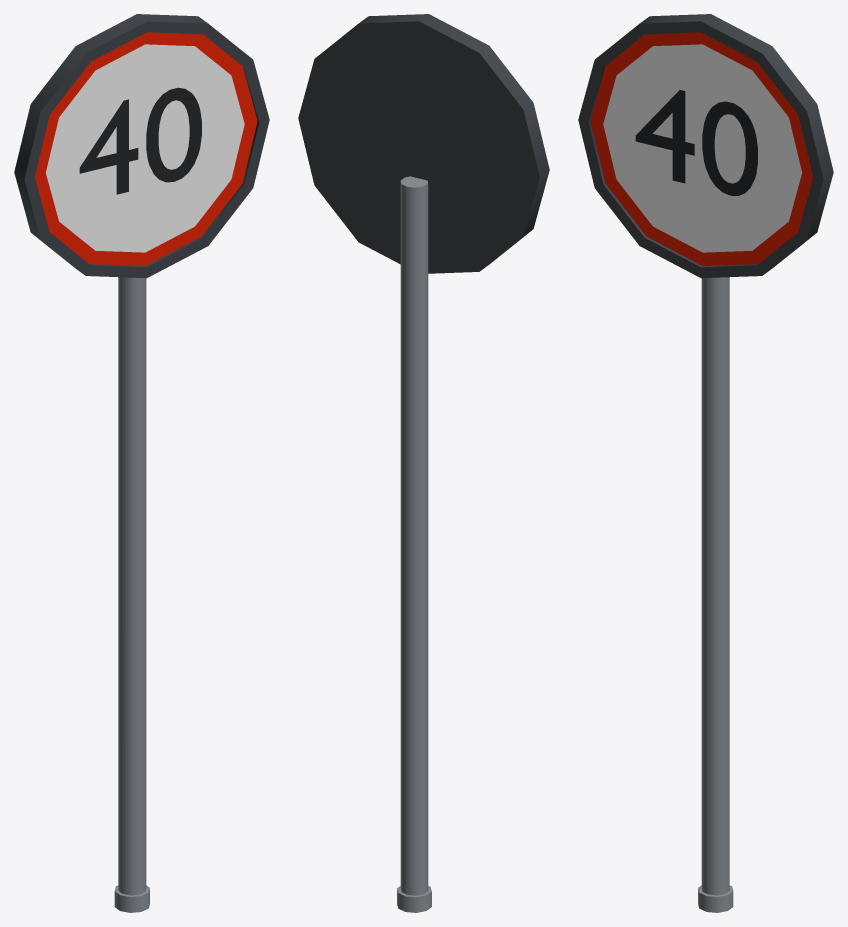
File: Road Sign_6.fbx
The picture shows the model from 3 angles, left to right: view 1: azimuth 30°, elevation 25°; view 2: azimuth 150°, elevation 25°; view 3: azimuth 330°, elevation 25°; orthographic projection.
Parts seen in each view (by area): view 1: Road Sign_6; view 2: Road Sign_6; view 3: Road Sign_6.
Part boxes in pixels (x1,y1,x2,y2): Road Sign_6: (14, 14, 269, 912); Road Sign_6: (298, 14, 549, 912); Road Sign_6: (578, 14, 833, 912).
Bounding box in the file's own units: 67.25 × 234 × 11.31.
